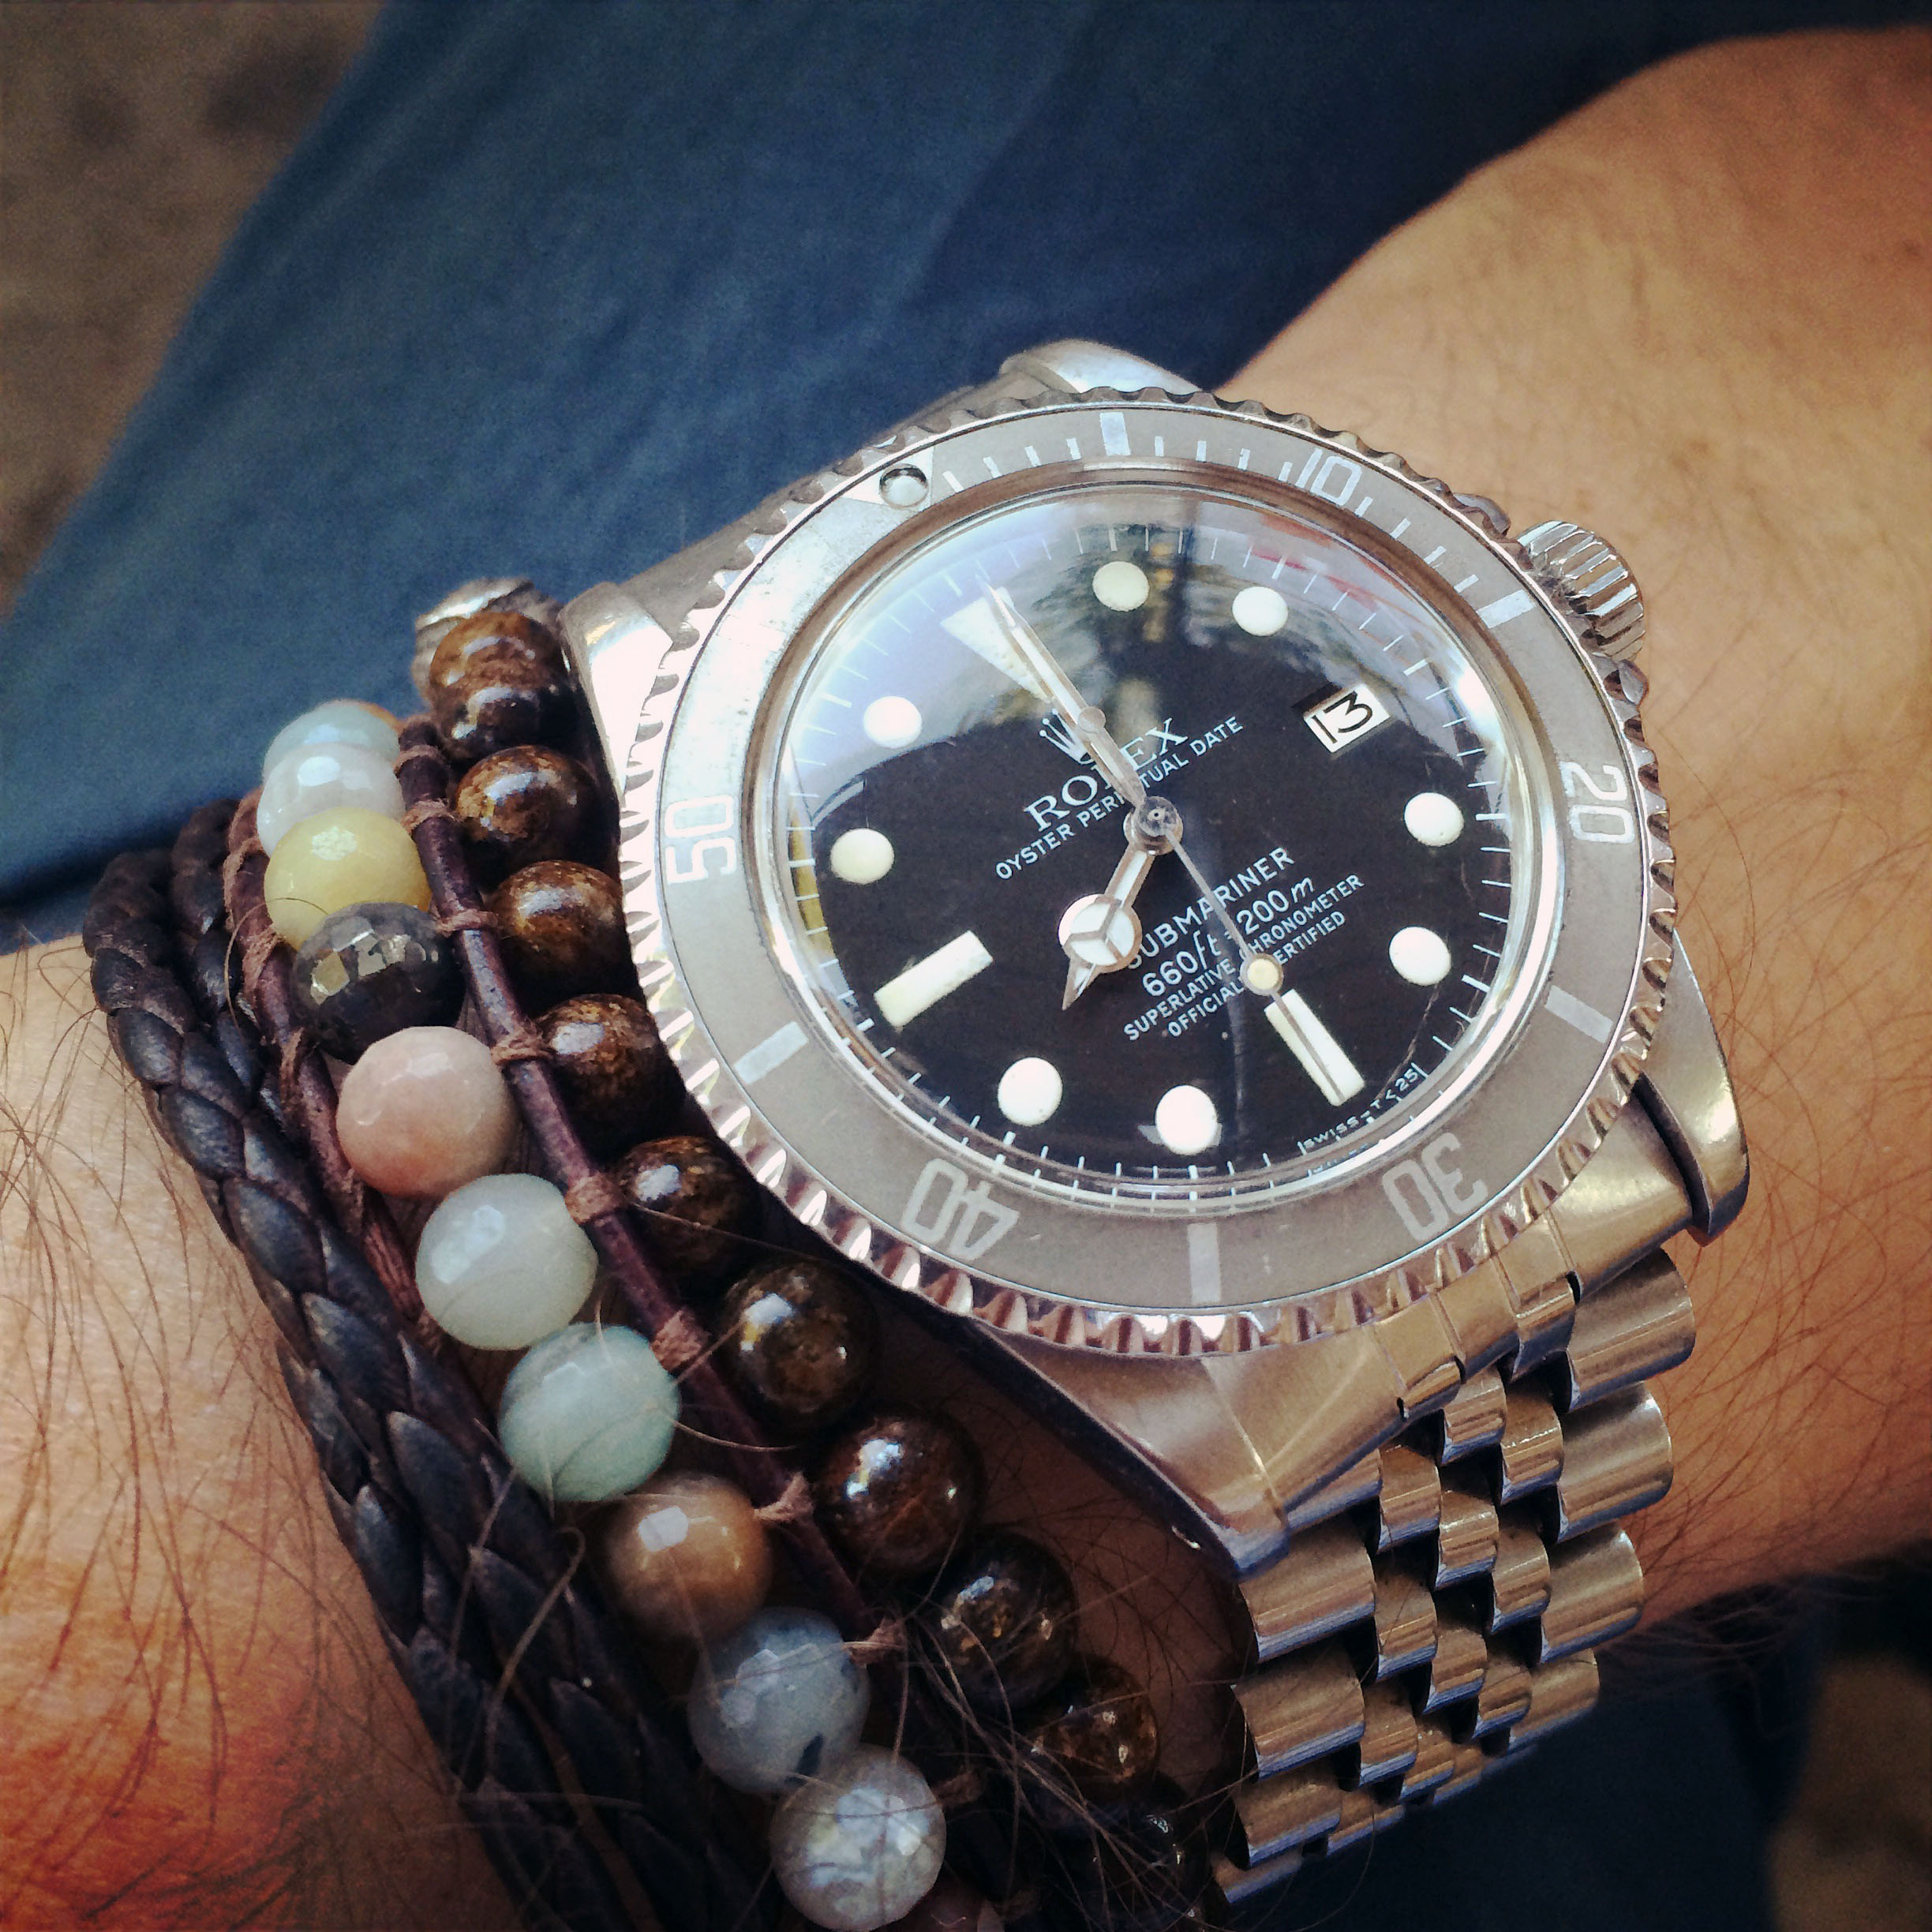clock: (770, 481, 1529, 1207)
